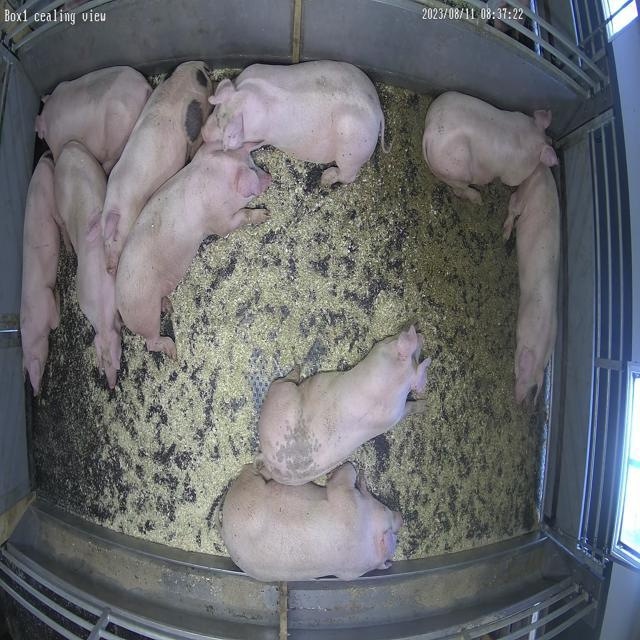Dirt: (333, 84, 540, 560)
Pig: (424, 91, 561, 404), (115, 144, 272, 360), (259, 326, 432, 486), (102, 61, 212, 274), (203, 60, 385, 185), (221, 464, 403, 582), (54, 141, 121, 388), (424, 91, 559, 202), (35, 66, 152, 172), (19, 152, 60, 396)
